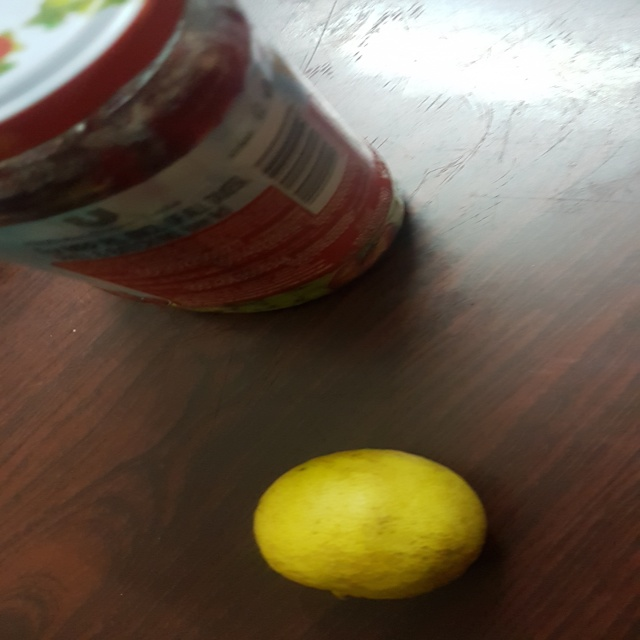lemon: (240, 441, 505, 607)
